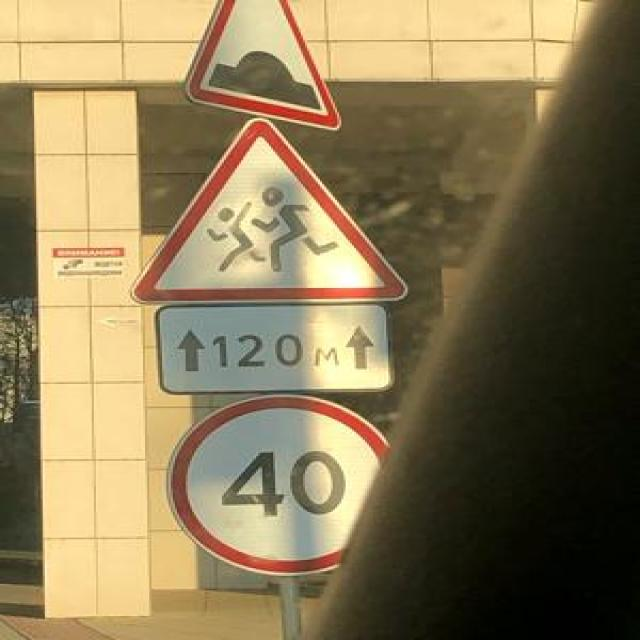speed limit 40: (170, 396, 398, 579)
